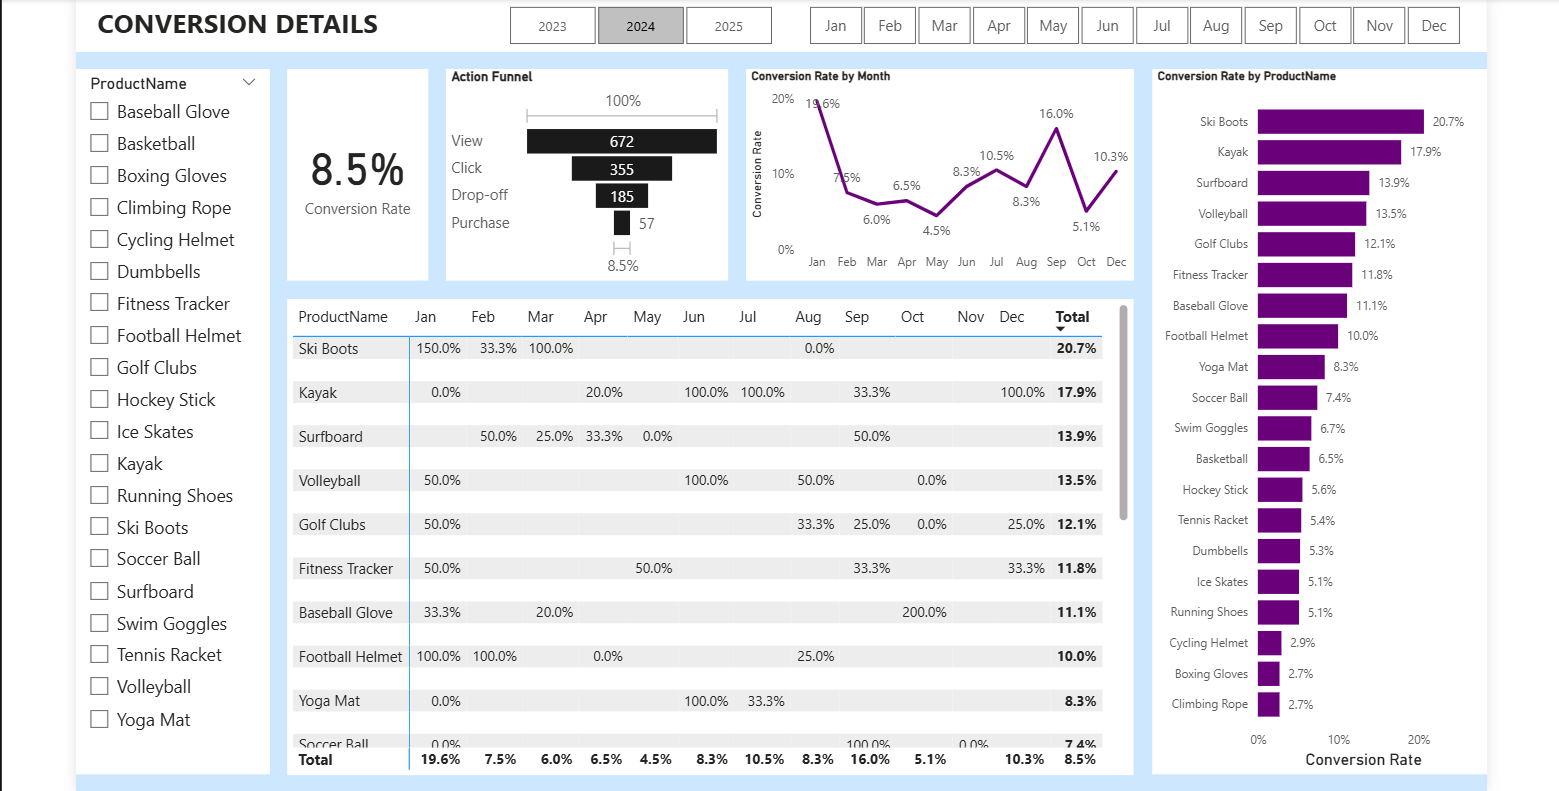

What the dashboard file says about the page in this screenshot:
{"tool":"powerbi","page":{"name":"CONVERSION DETAILS","canvas":[1280,720],"ordinal":1},"visuals":[{"type":"textbox","box":[0,0,1280,48],"z":0},{"type":"slicer","fields":{"Values":["dim_products.ProductName"]},"box":[0,64,176,640],"z":1000},{"type":"card","fields":{"Values":["Calculations.Conversion Rate"]},"box":[192,64,128,192],"z":2000},{"type":"slicer","fields":{"Values":["Calender.Year"]},"box":[368,0,288,48],"z":3000},{"type":"slicer","fields":{"Values":["Calender.MonthNameShort"]},"box":[640,0,640,48],"z":4000},{"type":"lineChart","title":"Conversion Rate by Month","fields":{"Category":["Calender.MonthNameShort"],"Y":["Calculations.Conversion Rate"]},"box":[608,64,352,192],"z":5000},{"type":"clusteredBarChart","fields":{"Category":["dim_products.ProductName"],"Y":["Calculations.Conversion Rate"]},"box":[976,64,304,640],"z":6000},{"type":"pivotTable","fields":{"Values":["Calculations.Conversion Rate"],"Rows":["dim_products.ProductName"],"Columns":["Calender.MonthNameShort"]},"box":[192,272,768,432],"z":7000},{"type":"funnel","title":"Action Funnel","fields":{"Category":["fact_customer_journey.Action"],"Y":["CountNonNull(fact_customer_journey.CustomerID)"]},"box":[336,64,256,192],"z":8000}]}

Visuals, with their boxes on the page's 1280x720 design canvas (x1, y1, x2, y2). These are canvas units, not pixel positions in the 1559x791 screenshot, which may show the page scaled, cropped or inside an application window:
textbox: box(0, 0, 1280, 48)
slicer - dim_products.ProductName: box(0, 64, 176, 704)
card - Calculations.Conversion Rate: box(192, 64, 320, 256)
slicer - Calender.Year: box(368, 0, 656, 48)
slicer - Calender.MonthNameShort: box(640, 0, 1280, 48)
"Conversion Rate by Month" lineChart: box(608, 64, 960, 256)
clusteredBarChart - dim_products.ProductName x Calculations.Conversion Rate: box(976, 64, 1280, 704)
pivotTable - Calculations.Conversion Rate x dim_products.ProductName: box(192, 272, 960, 704)
"Action Funnel" funnel: box(336, 64, 592, 256)
